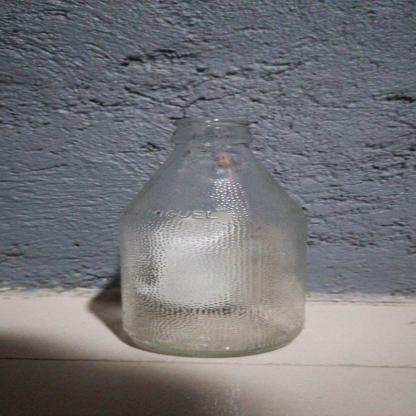Can: (108, 114, 324, 361)
